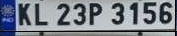character: (17, 2, 33, 26), (142, 1, 158, 25), (55, 2, 71, 25), (33, 2, 48, 26), (72, 2, 87, 26), (158, 1, 173, 25), (110, 2, 125, 25), (88, 2, 102, 26), (128, 1, 139, 24)
